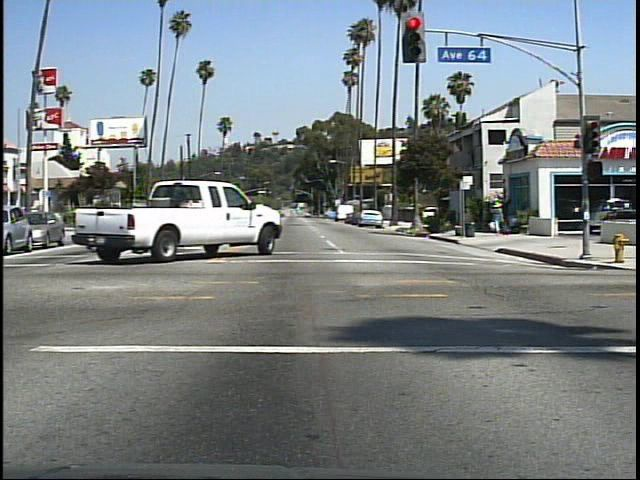person: (487, 196, 512, 242)
